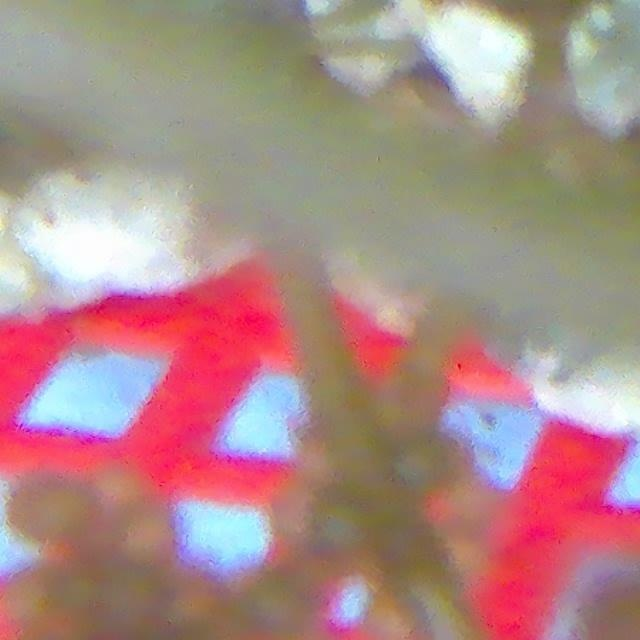SeaGrape: (300, 484, 380, 560), (240, 567, 320, 640), (384, 429, 458, 503), (101, 566, 171, 640), (42, 572, 106, 633)
